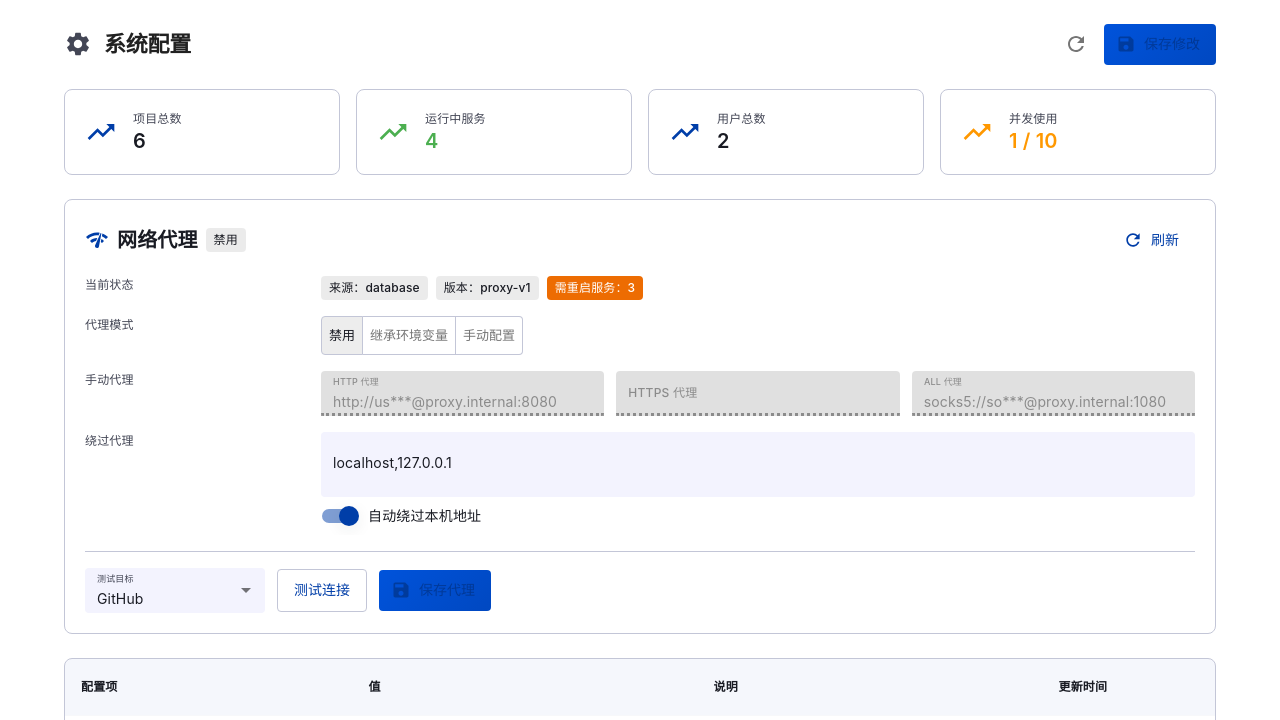
Test: AdminConfig network proxy panel › 保存手动代理后展示后端返回的脱敏值
Expected: the field labelled "HTTP 代理" is shown, [321,371,604,416]
Click the button "手动配置". click: (489, 335)
box: [455,316,523,355]
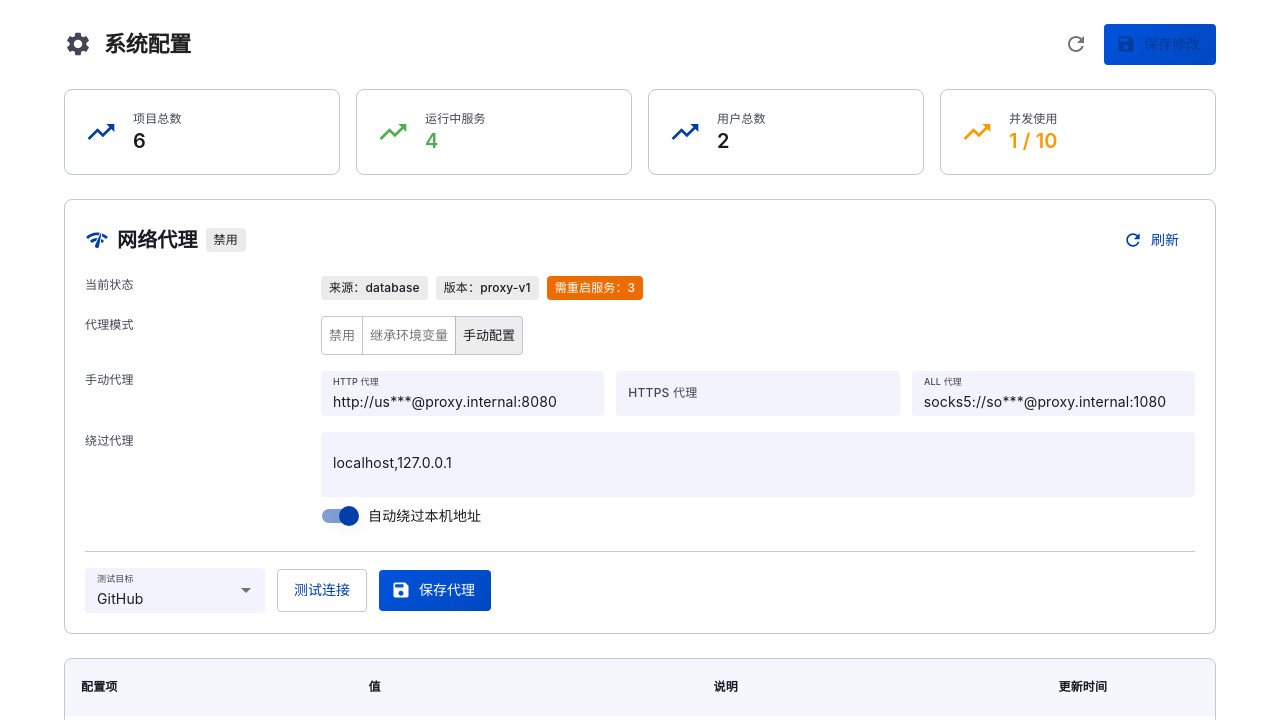
Replace the text in the field labelled "HTTP 代理" with "http://new-secret@proxy.internal:8080". click: (463, 393)
box: [321,371,604,416]
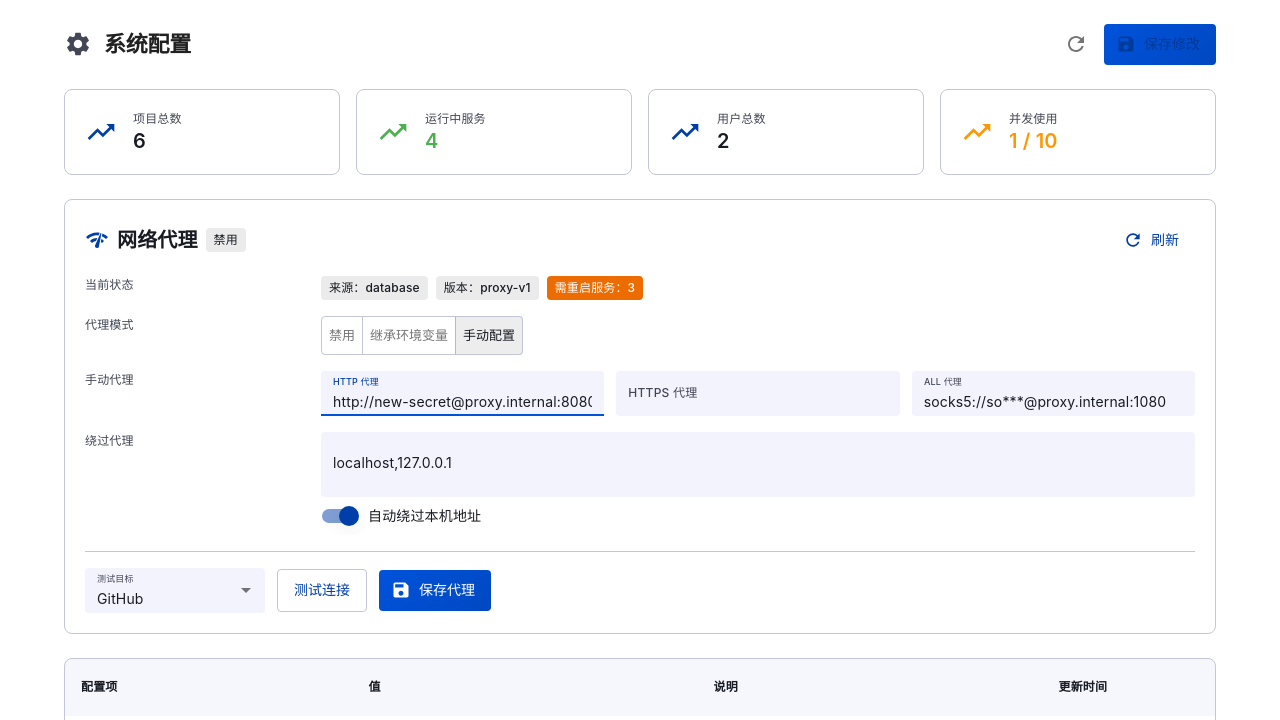
Click the button "保存代理". click: (435, 590)
box: [379,570,491,611]
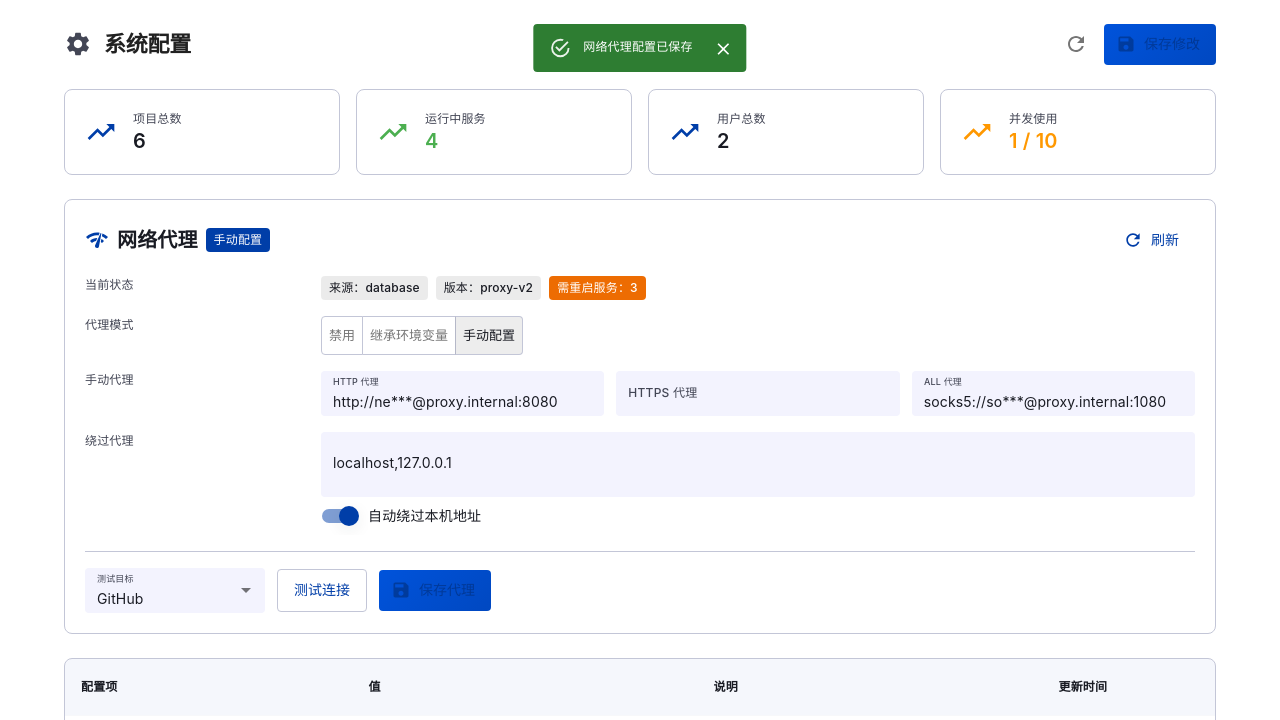
Expected: the text "网络代理配置已保存" is shown, [583,39,693,54]
Expected: the field labelled "HTTP 代理" holds "http://ne***@proxy.internal:8080", [321,371,604,416]
